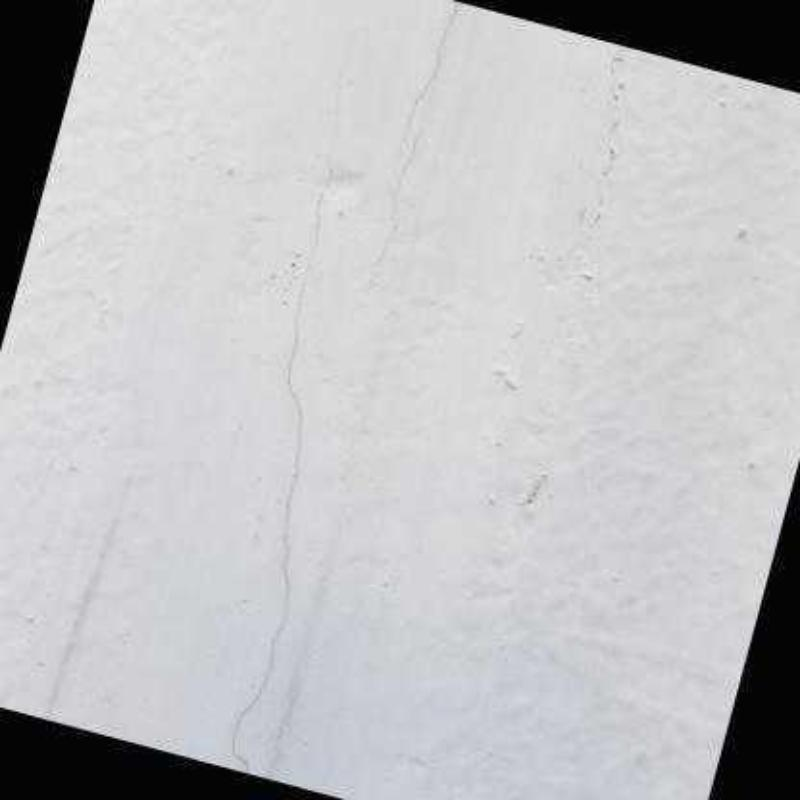pothole: (228, 21, 364, 773), (398, 1, 457, 151), (359, 213, 403, 305), (390, 132, 424, 215)
